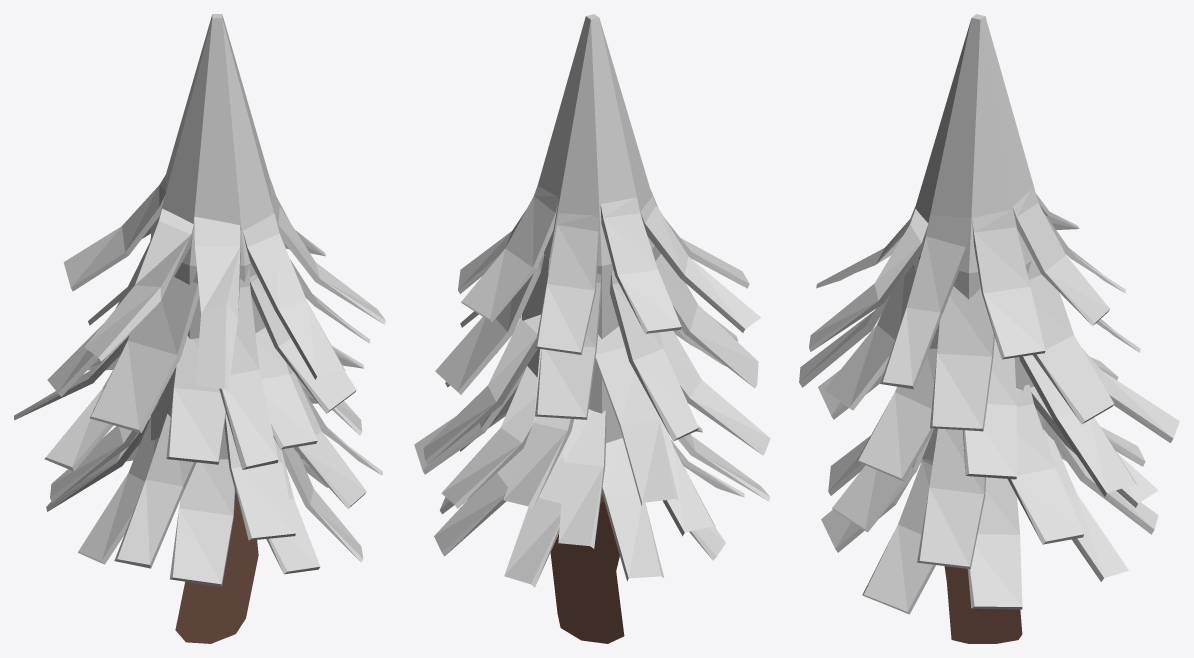
File: tree-pine-snow-2.glb
3 views of the same model, side by side, from view 1: azimuth 30°, elevation 25°; view 2: azimuth 150°, elevation 25°; view 3: azimuth 270°, elevation 25° (orthographic). The views are drawn at different scales.
Parts seen in each view (by area): view 1: Node; view 2: Node; view 3: Node.
Part boxes in pixels (<box>): Node: <box>14,14,385,643</box>; Node: <box>414,14,770,643</box>; Node: <box>799,14,1179,643</box>.
Size of the model in its own units: 0.515 by 0.9484 by 0.5203.
